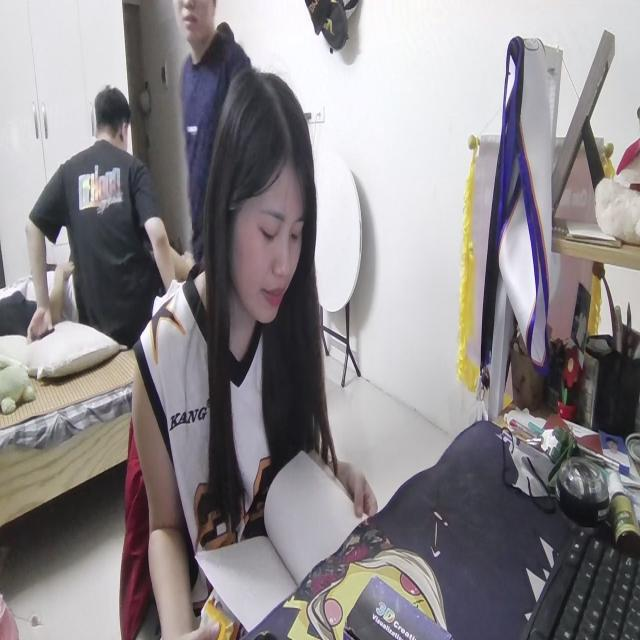book: (194, 442, 372, 635)
extra_person: (27, 79, 178, 370), (173, 0, 250, 260)
student: (136, 53, 378, 640)
